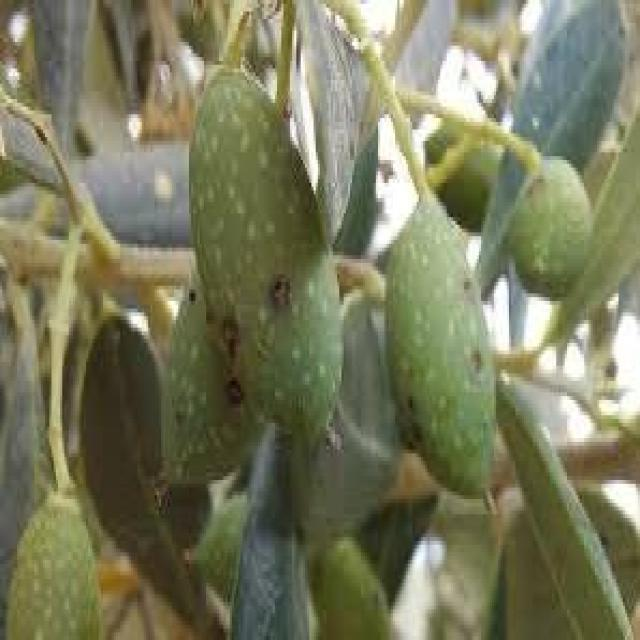Anthracnose: (188, 61, 339, 438), (384, 194, 494, 504)
